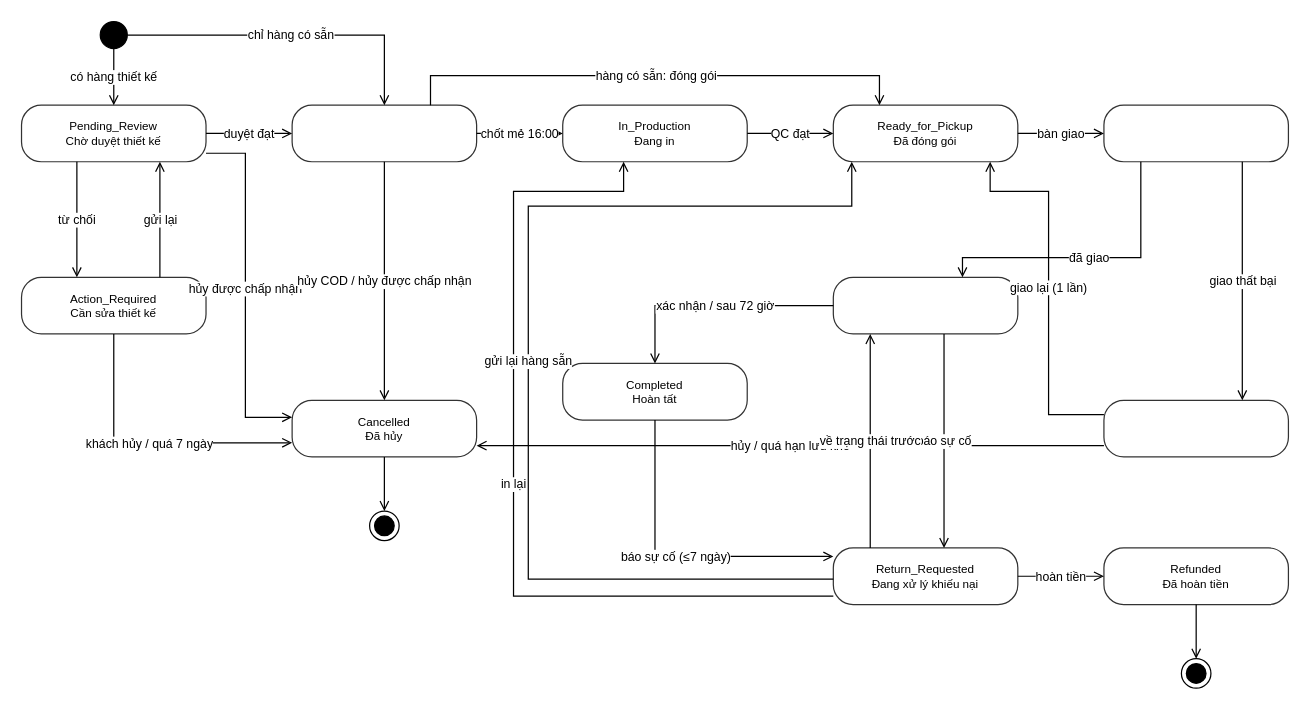
Some shapes in this 1310 by 710 pixel diagram are drawn without their labels. The box of each missing label's shape, as (x1, y1, x2, y2) in pixels:
Delivered Đã giao: (832, 276, 1018, 334)
Delivery_Failed Giao thất bại: (1103, 399, 1288, 457)
In_Transit Đang giao: (1103, 104, 1288, 162)
Pending_Confirmation Đã xác nhận: (291, 104, 477, 162)
